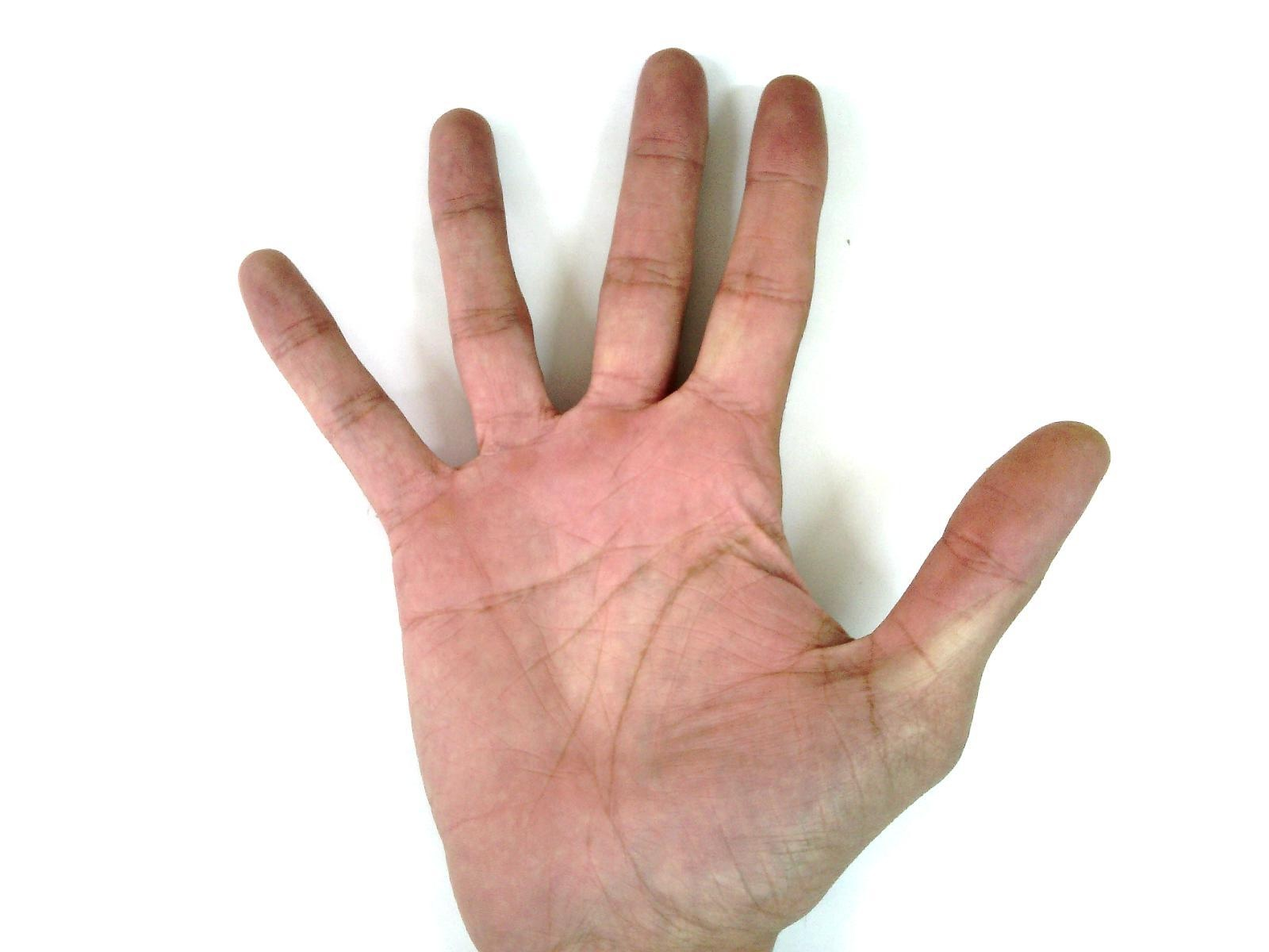open_palm: (235, 46, 1113, 951)
